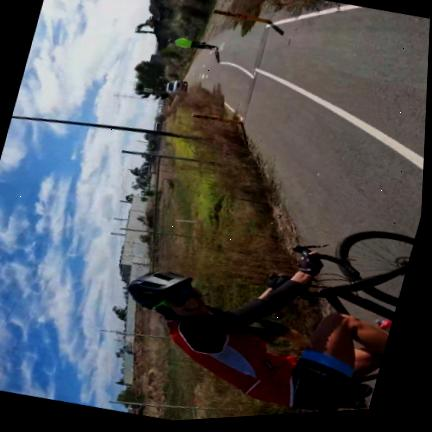Bike_Lane: (188, 3, 430, 246)
